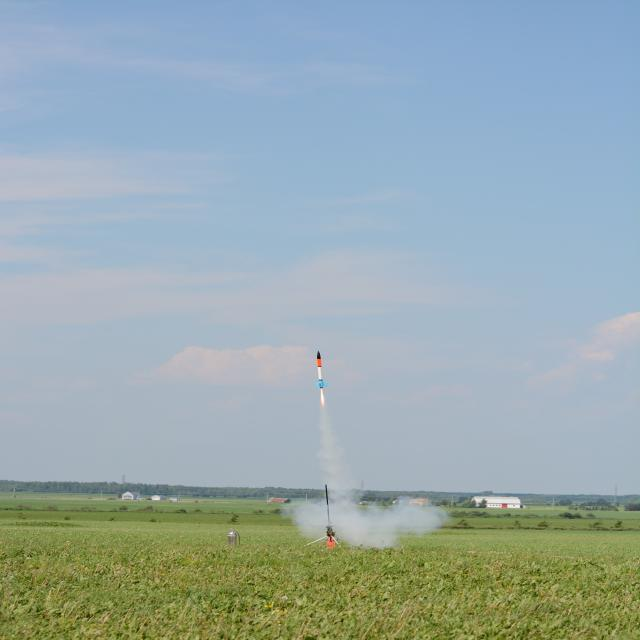Rocket: (315, 350, 329, 389)
